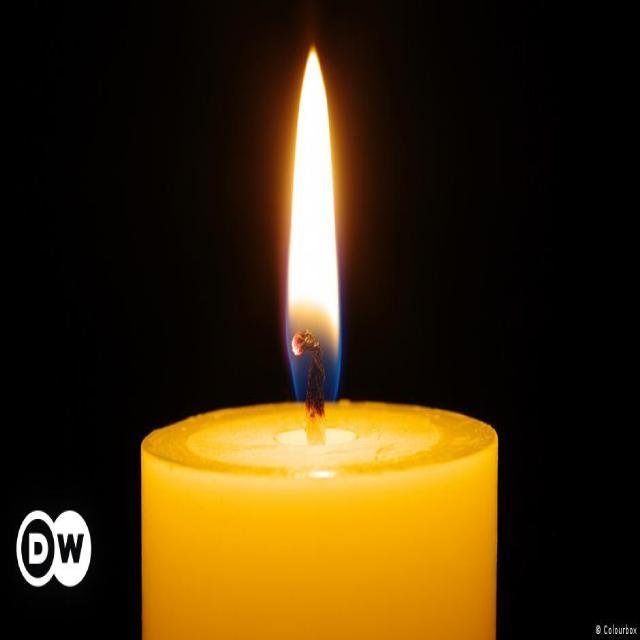Fire: (260, 29, 374, 451)
